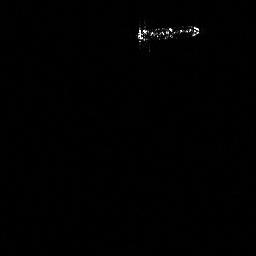ship: (132, 21, 203, 53)
